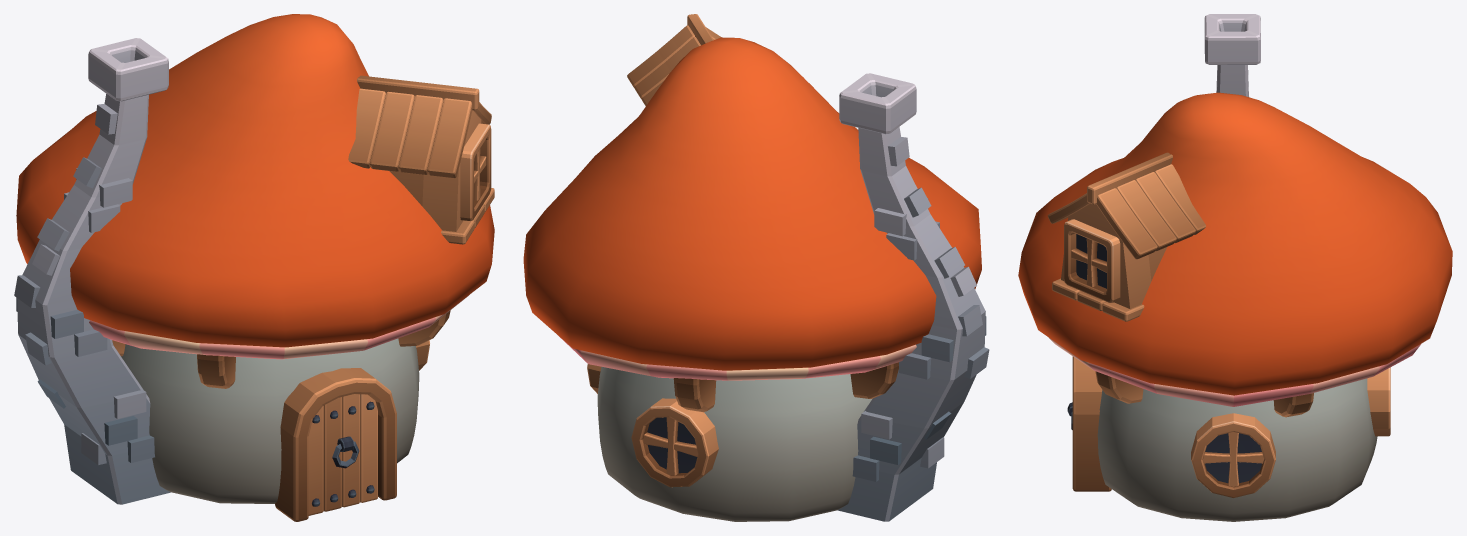
Rendered from mt_house06.fbx.
3 views of the same model, side by side, from view 1: azimuth 30°, elevation 25°; view 2: azimuth 150°, elevation 25°; view 3: azimuth 270°, elevation 25° (orthographic). The views are drawn at different scales.
Parts seen in each view (by area): view 1: h6; view 2: h6; view 3: h6.
Boxes of the visible parts, left/top/right/bottom form: h6: left=14, top=14, right=494, bottom=521; h6: left=523, top=14, right=989, bottom=521; h6: left=1018, top=14, right=1452, bottom=521.
Size of the model in its own units: 710 by 659 by 670.
